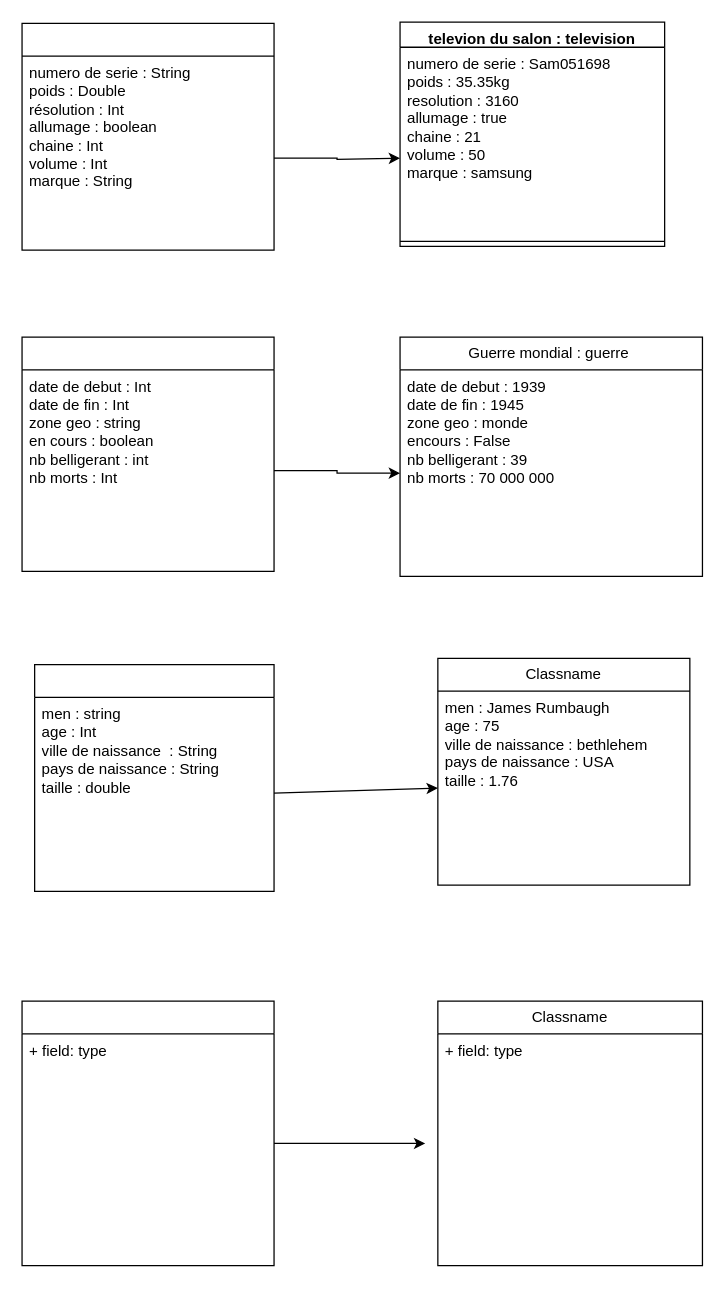
Some shapes in this 725 by 1292 pixel diagram are drawn without their labels. The box of each missing label's shape, as (x1, y1, x2, y2) in pixels:
Guerre: (21, 336, 274, 571)
Personne: (33, 663, 274, 891)
televison: (21, 22, 274, 250)
